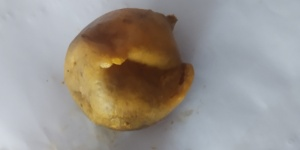BAD: (64, 6, 196, 131)
